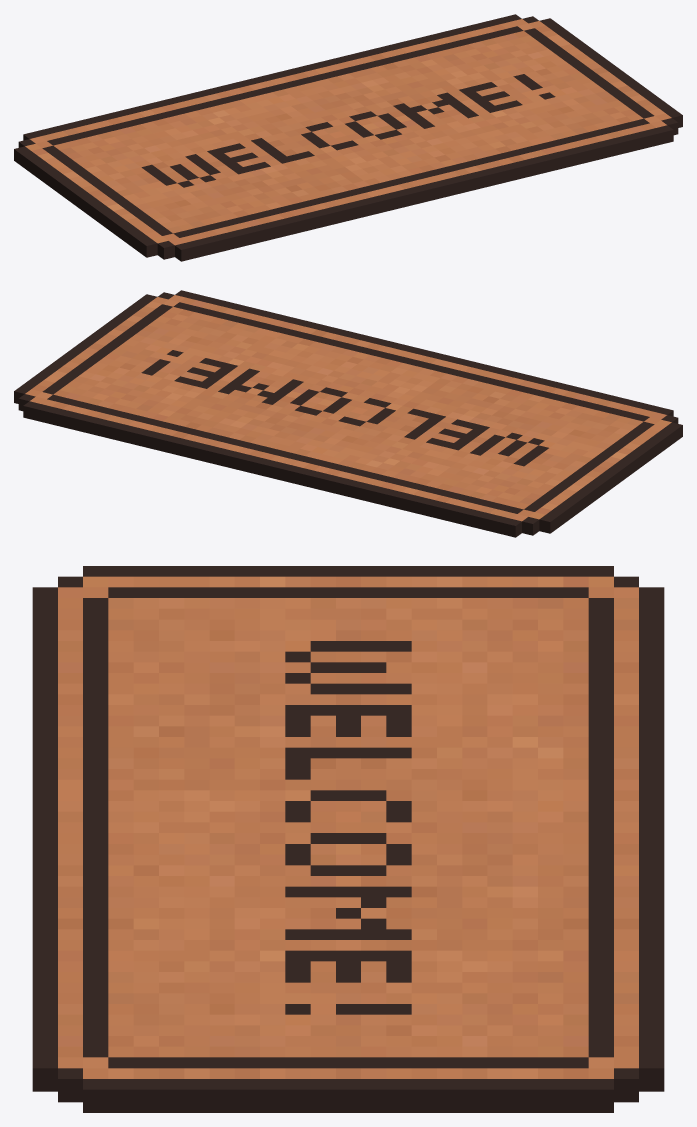
The model's file is PixelRug - Welcome - Limited Edition.glb.
3 renders of one model, top to bottom at view 1: azimuth 30°, elevation 25°; view 2: azimuth 150°, elevation 25°; view 3: azimuth 270°, elevation 25°, orthographic. The views are drawn at different scales.
Visible parts, largest first — view 1: Curve.376; view 2: Curve.376; view 3: Curve.376.
Part boxes in pixels (box(x1,y1,x2,y2)): Curve.376: box(14, 14, 682, 261); Curve.376: box(14, 290, 682, 537); Curve.376: box(32, 566, 664, 1112).
Size of the model in its own units: 0.5907 by 0.0123 by 0.3013.
